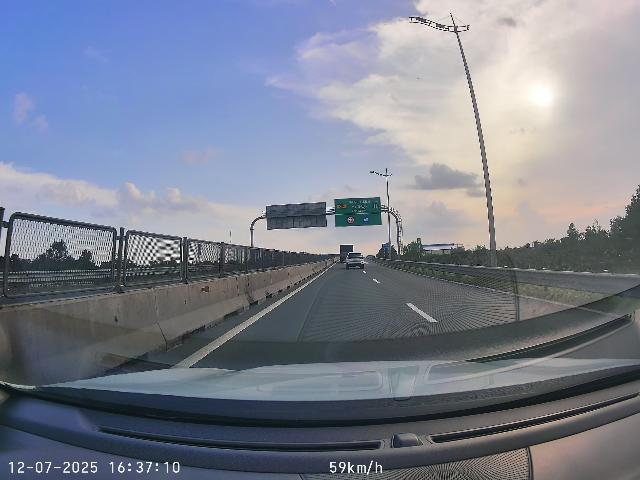127-toc-do-toi-da-90: (346, 216, 355, 224)
306-toc-do-toi-thieu-60: (362, 215, 370, 224)
437-bat-dau-duong-cao-toc: (372, 201, 379, 209)
